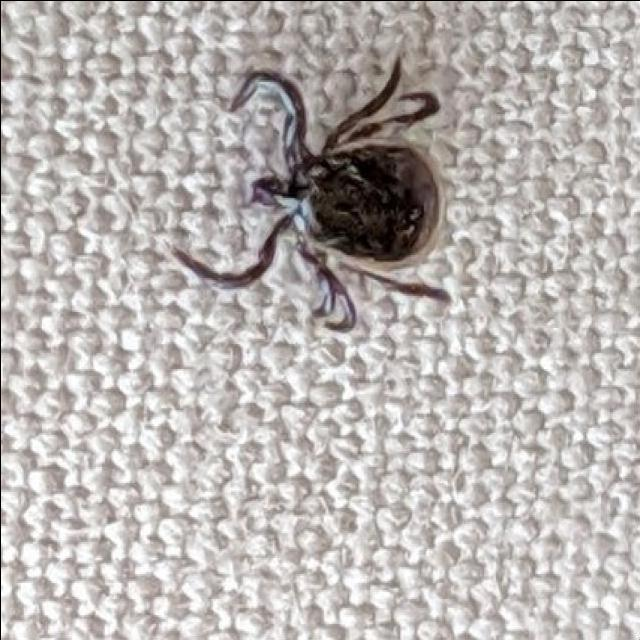Ixodes Ricinus-M: (177, 64, 450, 335)
